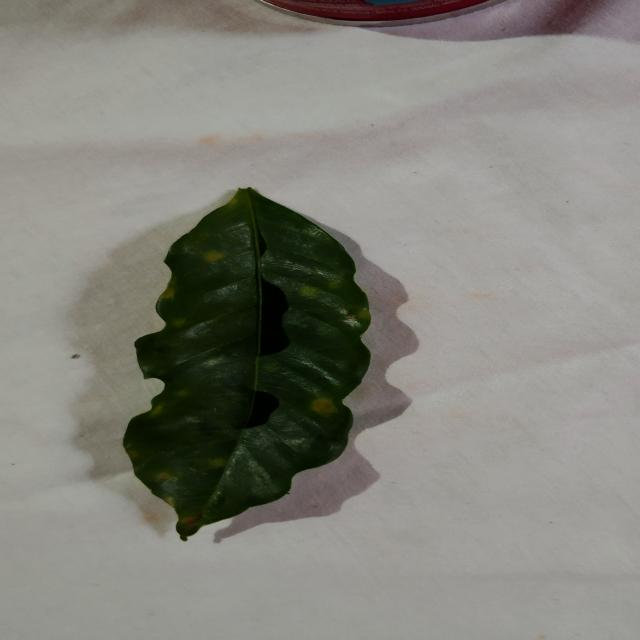KaratDaunKopi: (311, 398, 338, 416), (204, 250, 226, 262), (299, 285, 321, 297), (160, 286, 175, 298), (209, 459, 227, 468), (357, 310, 371, 320), (158, 472, 173, 479), (177, 390, 190, 396)
